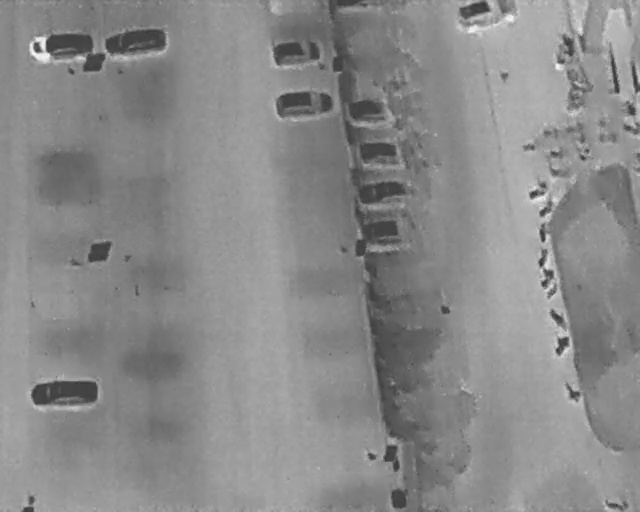Car: (29, 28, 95, 63), (274, 84, 335, 121), (103, 25, 169, 59), (29, 378, 100, 407), (358, 214, 418, 246), (356, 177, 415, 209), (458, 1, 518, 30), (271, 38, 321, 67), (347, 99, 400, 124), (359, 141, 406, 164)
